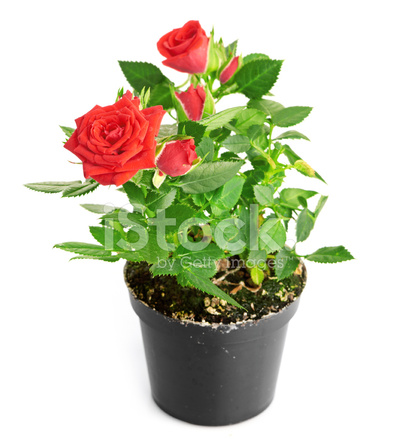flowerpot: (123, 243, 306, 426)
